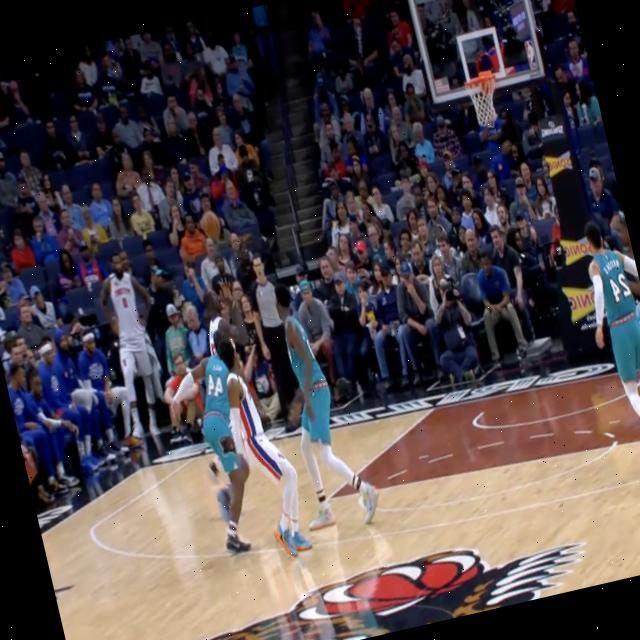no foul: (163, 280, 313, 578), (211, 316, 327, 594), (258, 266, 374, 542)
